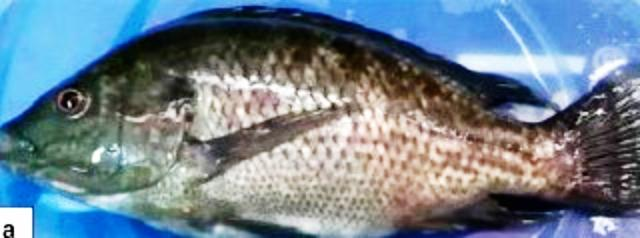Tilapia Lake Virus -TiLV-: (0, 6, 638, 236), (0, 10, 640, 236)
